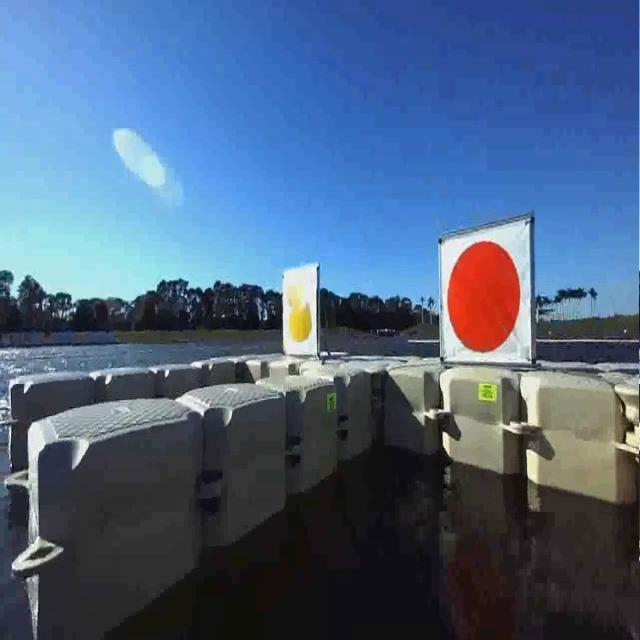red-dot: (438, 240, 526, 360)
yellow-duck: (283, 274, 316, 358)
